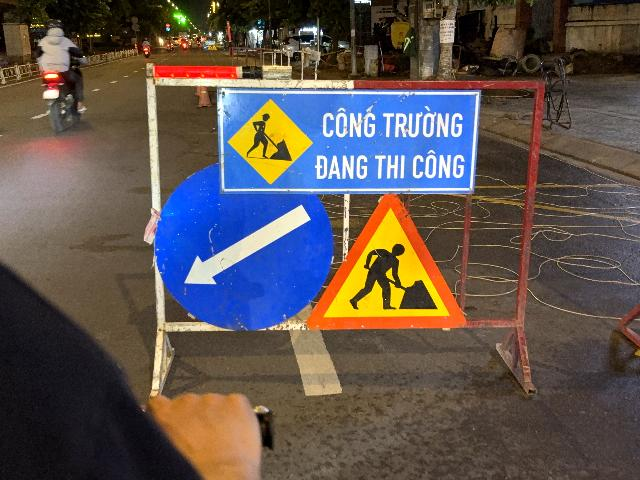cong-truong-dang-thi-cong: (309, 190, 467, 329)
huong-phai-di-vong-chuong-ngai-vat: (153, 159, 335, 333)
